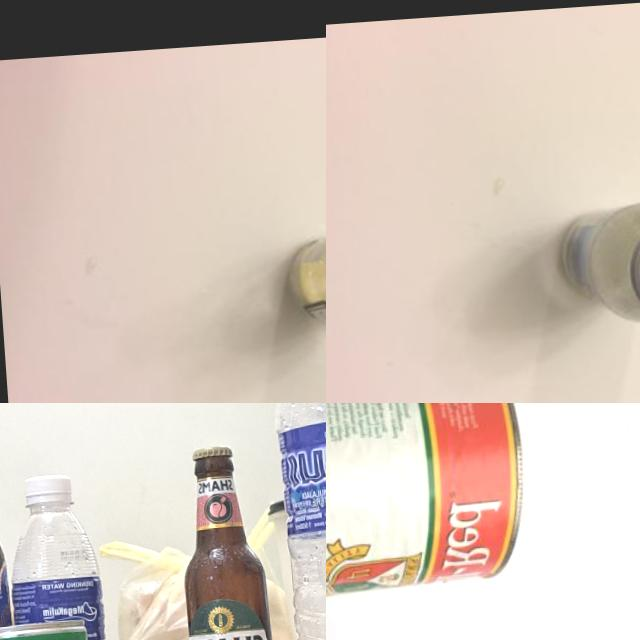garrafa de vidro: (175, 443, 276, 640), (556, 194, 640, 330)
garrafa plástica: (8, 500, 108, 640), (272, 403, 326, 640)
lata: (326, 403, 640, 614), (0, 618, 89, 640)
tampa plástica: (24, 474, 74, 504)
